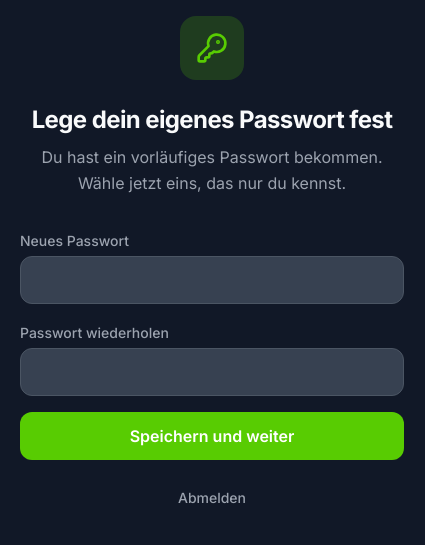
Pflicht-Seite „Neues Passwort festlegen“ (PROJ-58) › prüft Länge und Wiederholung, bevor etwas gesendet wird
In the password field labelled "Neues Passwort": (212, 280) x1=20 y1=256 x2=404 y2=304, type "kurz"
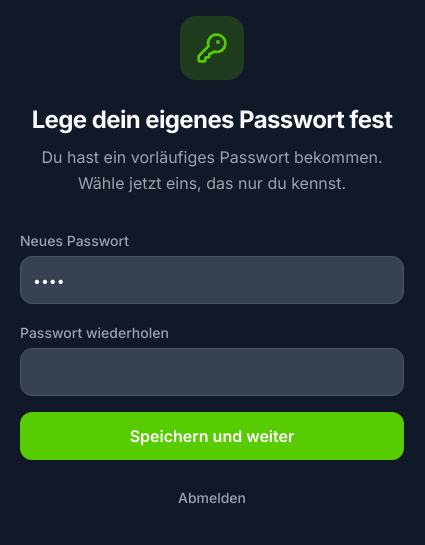
In the password field labelled "Passwort wiederholen": (212, 372) x1=20 y1=348 x2=404 y2=396, type "kurz"
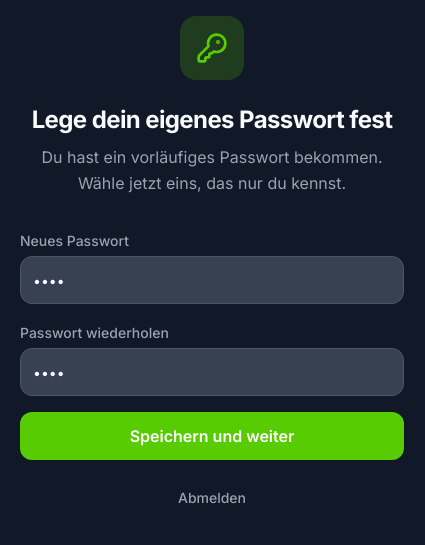
Click the button "Speichern und weiter": click(212, 436) x1=20 y1=412 x2=404 y2=460
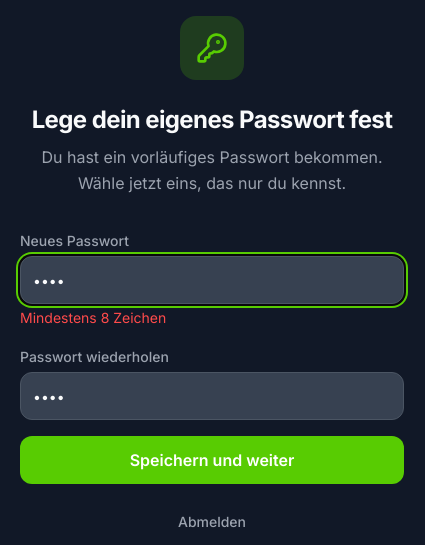
expect the text "Mindestens 8 Zeichen" is shown: met, box x1=20 y1=309 x2=166 y2=326
In the password field labelled "Neues Passwort": (212, 280) x1=20 y1=256 x2=404 y2=304, type "LangGenug-22"
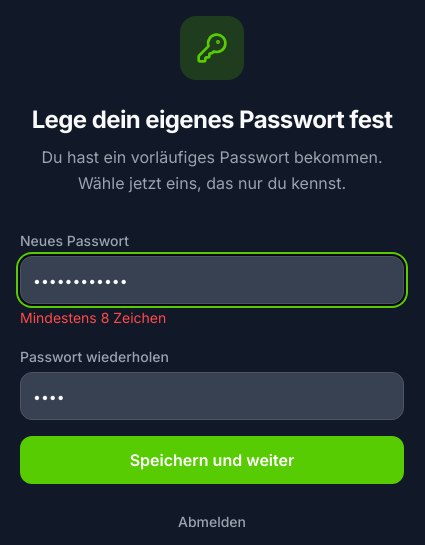
In the password field labelled "Passwort wiederholen": (212, 396) x1=20 y1=372 x2=404 y2=420, type "Anders-33"
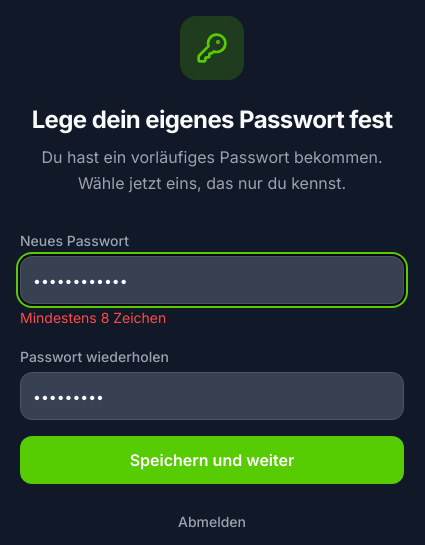
Click the button "Speichern und weiter": click(212, 460) x1=20 y1=436 x2=404 y2=484
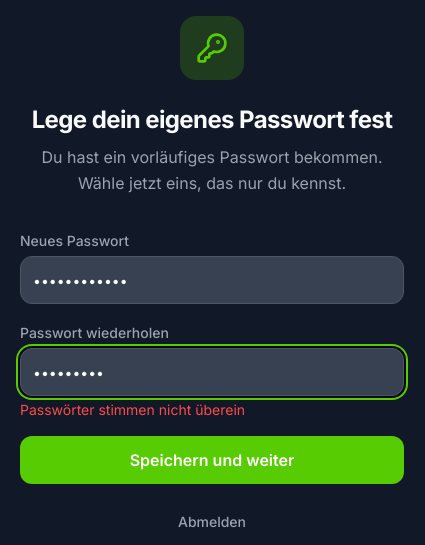
expect the text "Passwörter stimmen nicht überein" is shown: met, box x1=20 y1=401 x2=245 y2=418
